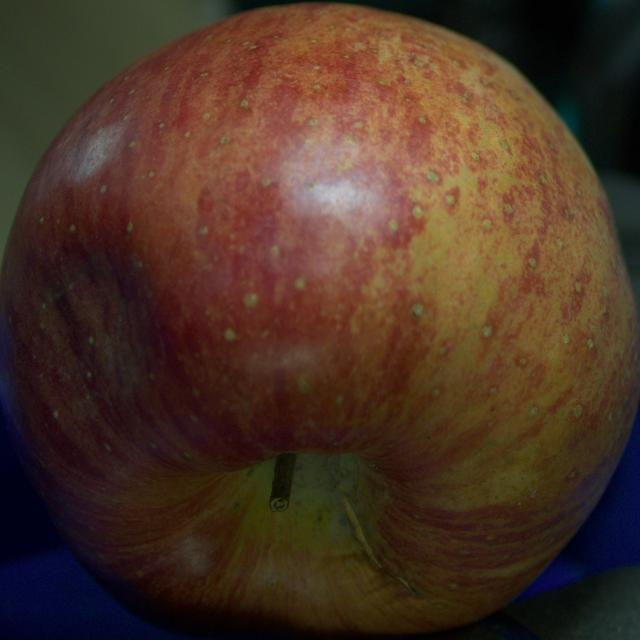apple: (0, 4, 639, 637)
bruise: (27, 248, 163, 425)
scratch: (339, 485, 385, 570), (395, 577, 408, 589)
